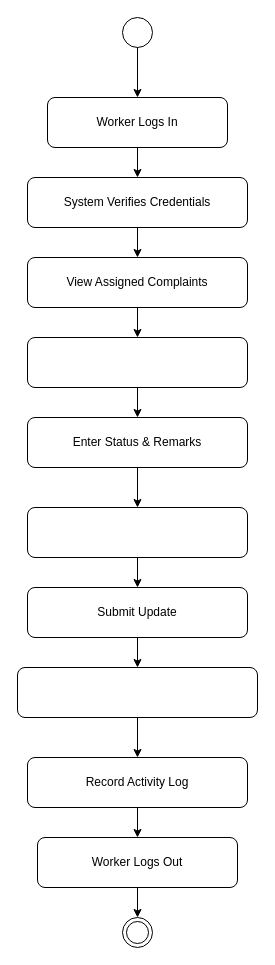
Some shapes in this 275 by 965 pixel diagram are drawn without their labels. Here are the shapes that lost their labels. From the top down, the centre of each, then its label:
point 137,362: Select Complaint to Update
point 137,532: Upload Resolution Image
point 137,692: System Notifies Admin & User
